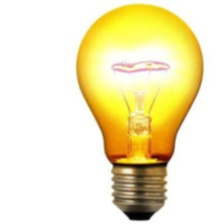light_bulb: (73, 0, 207, 222)
